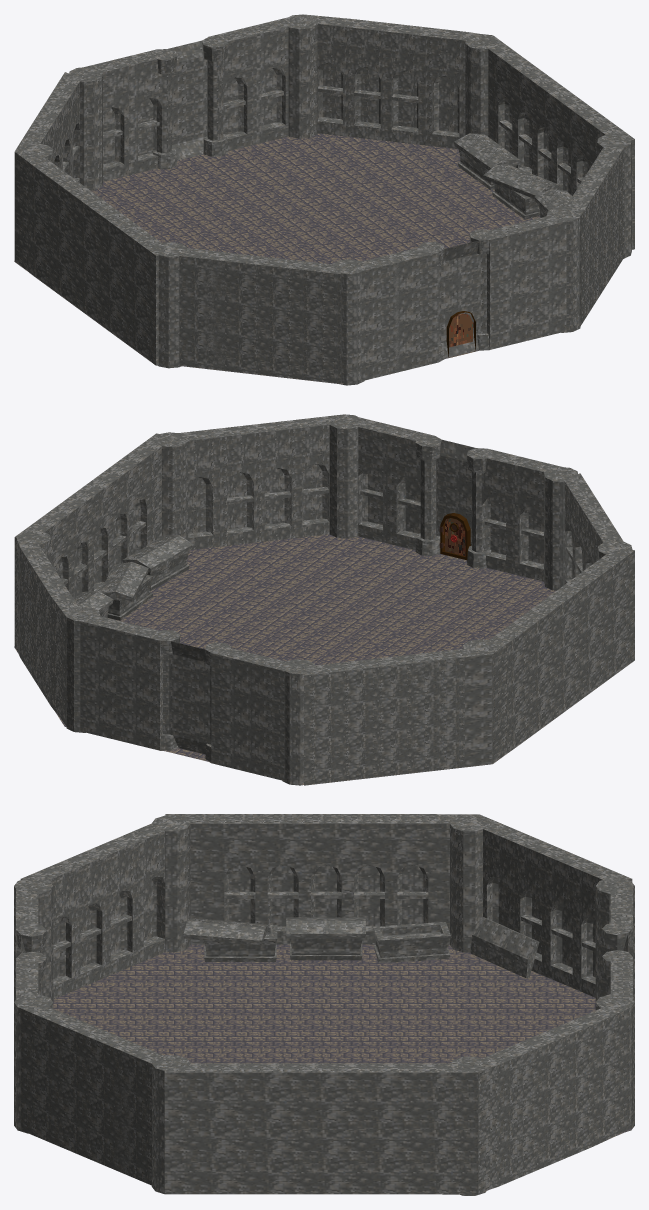
Rendered from arena2.3.fbx.
3 views of the same model, one above another, from view 1: azimuth 30°, elevation 25°; view 2: azimuth 150°, elevation 25°; view 3: azimuth 270°, elevation 25° (orthographic). The views are drawn at different scales.
Visible parts, largest first — view 1: walls.004, walls.002, door.002; view 2: walls.004, walls.002, door.002; view 3: walls.004, walls.002.
Boxes of the visible parts, x1,y1,x2,y2 form: walls.004: [14, 14, 634, 385]; walls.002: [14, 133, 540, 383]; door.002: [446, 311, 475, 357]; walls.004: [14, 414, 634, 785]; walls.002: [14, 534, 631, 785]; door.002: [439, 513, 470, 560]; walls.004: [14, 814, 634, 1195]; walls.002: [53, 944, 632, 1193].
Bounding box in the file's own units: 206 × 45.66 × 209.
Materials: 6 (3 with a texture image).
